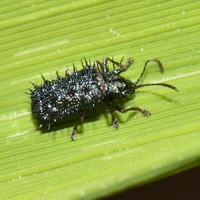insect: (30, 57, 177, 139)
